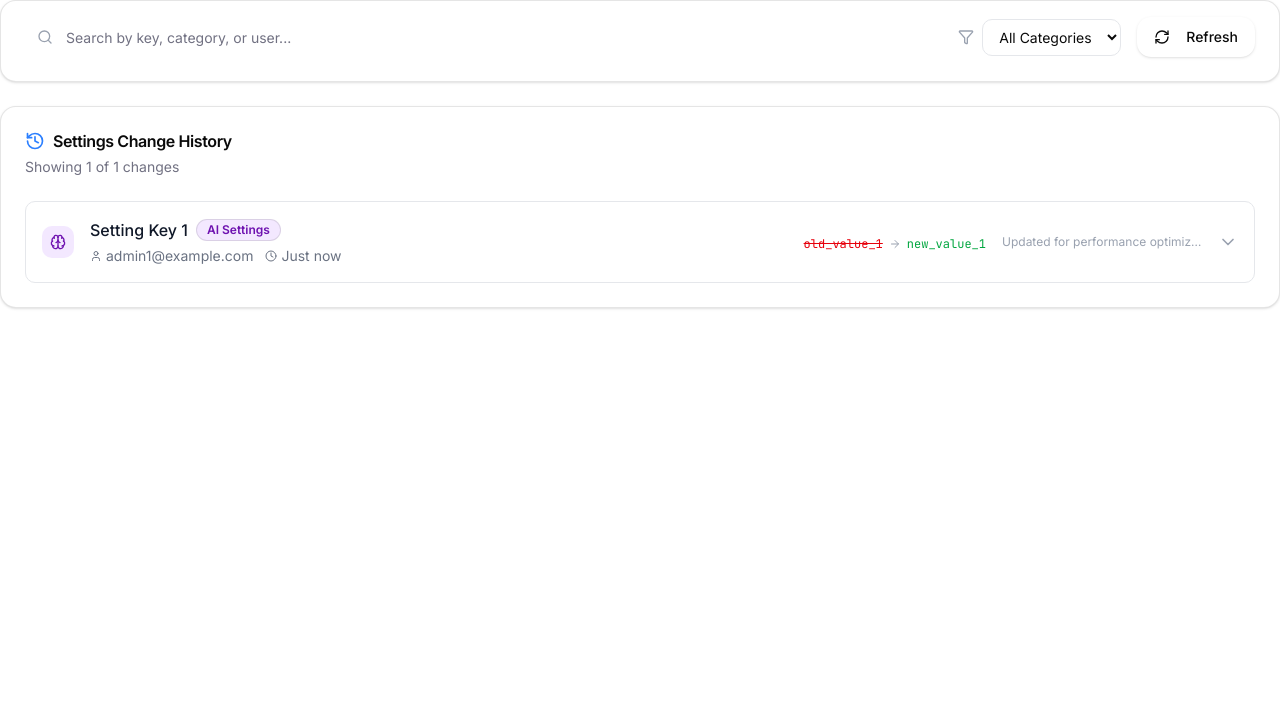
Test: SettingsHistoryPanel › Expandable Details › should show reason for change when available
Expected: the text "admin1@example.com" is shown, [90,246,254,266]
What coordinates should you click on to do the following:
click the button that starts with "Setting Key 1"
I would click on:
 (58, 242)
Its box is [42,219,1238,264].
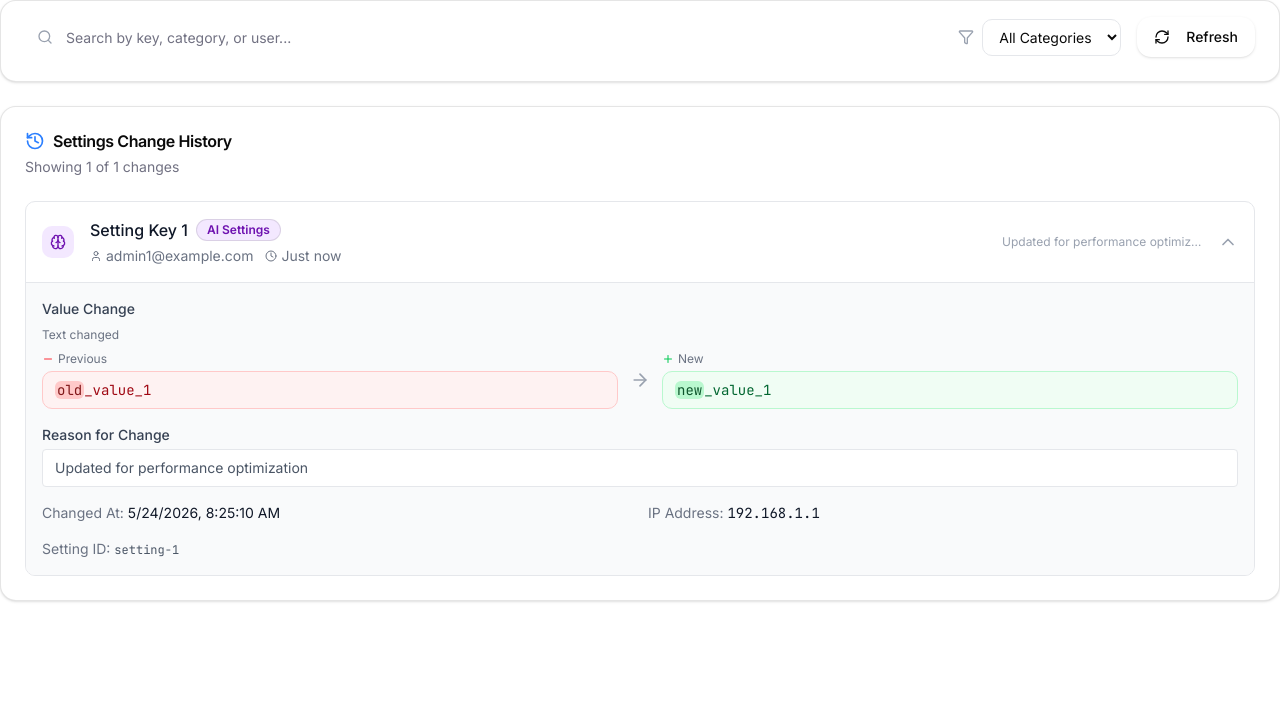
Expected: the 1st text "Updated for performance optimization" is shown, [1002,234,1202,250]
Expected: the heading "Reason for Change" is shown, [42,426,170,443]
